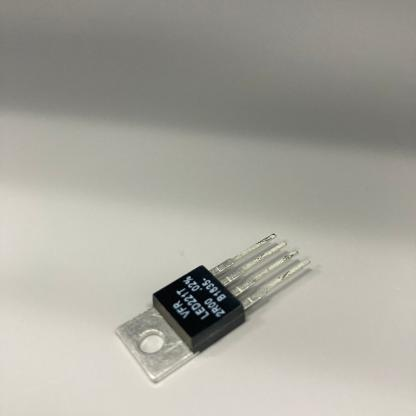SP0000012: (50, 212, 353, 396)
